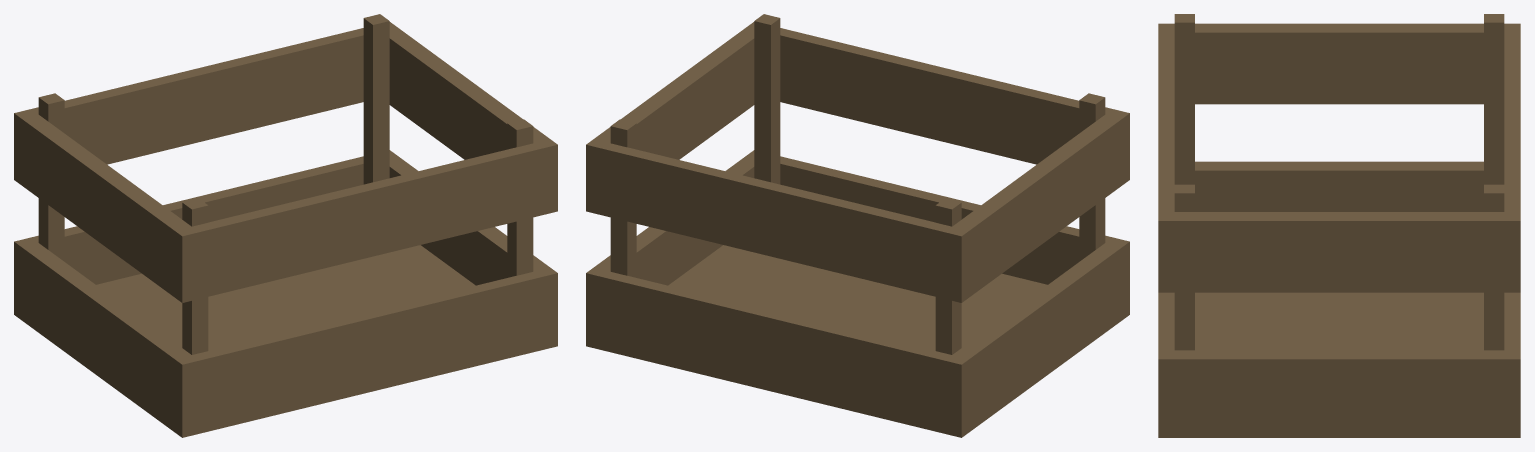
The model's file is MarketCrate2_RJ_16-11.fbx.
The picture shows the model from 3 angles, left to right: view 1: azimuth 30°, elevation 25°; view 2: azimuth 150°, elevation 25°; view 3: azimuth 270°, elevation 25°; orthographic projection. The views are drawn at different scales.
Visible parts, largest first — view 1: Crate2; view 2: Crate2; view 3: Crate2.
Part boxes in pixels (x1,y1,x2,y2): Crate2: (14, 14, 557, 437); Crate2: (586, 14, 1129, 437); Crate2: (1158, 14, 1520, 437).
Size of the model in its own units: 407 by 227 by 316.
